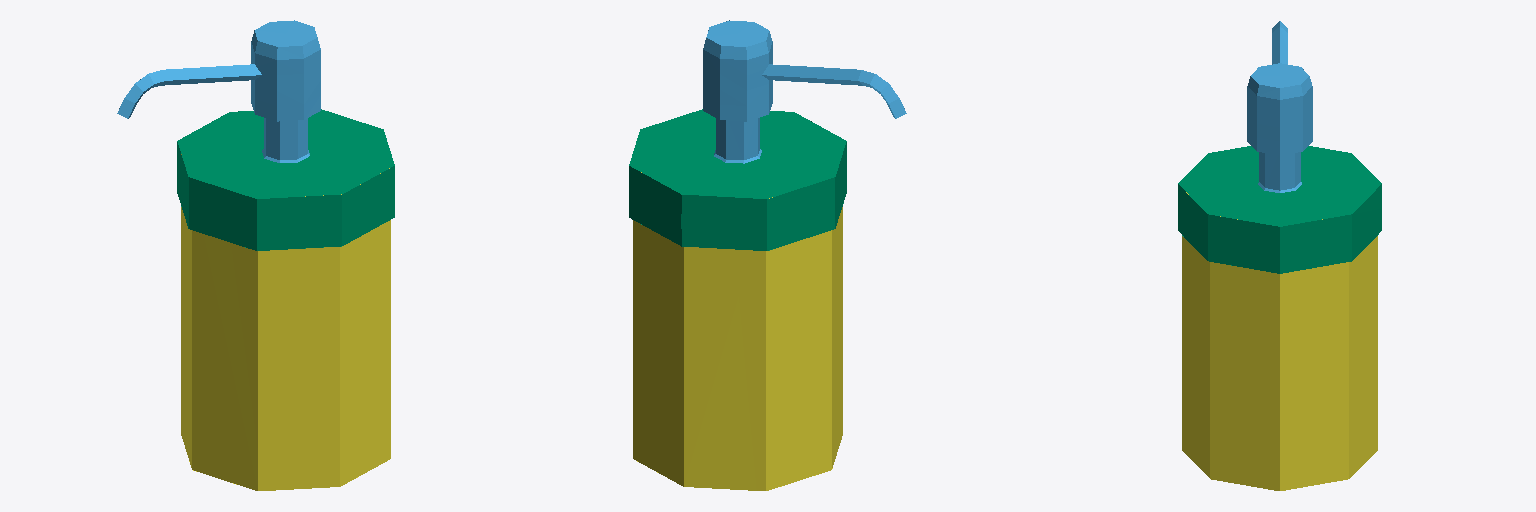
The robot description file, URDF, robot "partnet_5d80c1b5-bbcc-4066-9103-2460992ace27":
<?xml version="1.0" ?>
<robot name="partnet_5d80c1b5-bbcc-4066-9103-2460992ace27">
	<link name="base"/>
	<link name="link_0">
		<visual name="pressing_lid-1">
			<origin xyz="0.002186500000000001 0 0.009778999997167189"/>
			<geometry>
				<mesh filename="textured_objs/original_2.obj"/>
			</geometry>
		</visual>
		<visual name="pressing_lid-1">
			<origin xyz="0.002186500000000001 0 0.009778999997167189"/>
			<geometry>
				<mesh filename="textured_objs/original_8.obj"/>
			</geometry>
		</visual>
		<visual name="pressing_lid-1">
			<origin xyz="0.002186500000000001 0 0.009778999997167189"/>
			<geometry>
				<mesh filename="textured_objs/original_6.obj"/>
			</geometry>
		</visual>
		<collision>
			<origin xyz="0.002186500000000001 0 0.009778999997167189"/>
			<geometry>
				<mesh filename="textured_objs/original_2.obj"/>
			</geometry>
		</collision>
		<collision>
			<origin xyz="0.002186500000000001 0 0.009778999997167189"/>
			<geometry>
				<mesh filename="textured_objs/original_8.obj"/>
			</geometry>
		</collision>
		<collision>
			<origin xyz="0.002186500000000001 0 0.009778999997167189"/>
			<geometry>
				<mesh filename="textured_objs/original_6.obj"/>
			</geometry>
		</collision>
	</link>
	<joint name="joint_0" type="continuous">
		<origin xyz="0.0 0 0.0"/>
		<axis xyz="0 1 0"/>
		<child link="link_0"/>
		<parent link="link_0_helper"/>
	</joint>
	<link name="link_1">
		<visual name="head-3">
			<origin xyz="0.0016189564690488947 0 0.009924500000000003"/>
			<geometry>
				<mesh filename="textured_objs/original_7.obj"/>
			</geometry>
		</visual>
		<collision>
			<origin xyz="0.0016189564690488947 0 0.009924500000000003"/>
			<geometry>
				<mesh filename="textured_objs/original_7.obj"/>
			</geometry>
		</collision>
	</link>
	<joint name="joint_1" type="continuous">
		<origin xyz="0.0 0 0.0"/>
		<axis xyz="0 -1 0"/>
		<child link="link_1"/>
		<parent link="link_1_helper"/>
	</joint>
	<link name="link_2">
		<visual name="base_body-4">
			<origin xyz="0 0 0"/>
			<geometry>
				<mesh filename="textured_objs/original_4.obj"/>
			</geometry>
		</visual>
		<visual name="base_body-4">
			<origin xyz="0 0 0"/>
			<geometry>
				<mesh filename="textured_objs/original_3.obj"/>
			</geometry>
		</visual>
		<visual name="base_body-4">
			<origin xyz="0 0 0"/>
			<geometry>
				<mesh filename="textured_objs/original_9.obj"/>
			</geometry>
		</visual>
		<visual name="base_body-4">
			<origin xyz="0 0 0"/>
			<geometry>
				<mesh filename="textured_objs/original_5.obj"/>
			</geometry>
		</visual>
		<visual name="base_body-4">
			<origin xyz="0 0 0"/>
			<geometry>
				<mesh filename="textured_objs/original_1.obj"/>
			</geometry>
		</visual>
		<collision>
			<origin xyz="0 0 0"/>
			<geometry>
				<mesh filename="textured_objs/original_4.obj"/>
			</geometry>
		</collision>
		<collision>
			<origin xyz="0 0 0"/>
			<geometry>
				<mesh filename="textured_objs/original_3.obj"/>
			</geometry>
		</collision>
		<collision>
			<origin xyz="0 0 0"/>
			<geometry>
				<mesh filename="textured_objs/original_9.obj"/>
			</geometry>
		</collision>
		<collision>
			<origin xyz="0 0 0"/>
			<geometry>
				<mesh filename="textured_objs/original_5.obj"/>
			</geometry>
		</collision>
		<collision>
			<origin xyz="0 0 0"/>
			<geometry>
				<mesh filename="textured_objs/original_1.obj"/>
			</geometry>
		</collision>
	</link>
	<joint name="joint_2" type="fixed">
		<origin rpy="1.570796326794897 0 -1.570796326794897" xyz="0 0 0"/>
		<child link="link_2"/>
		<parent link="base"/>
	</joint>
	<link name="link_0_helper">
		<inertial>
			<origin xyz="0 0 0"/>
			<mass value="1e-6"/>
			<inertia ixx="1e-10" ixy="0" ixz="0" iyy="1e-10" iyz="0" izz="1e-10"/>
		</inertial>
	</link>
	<joint name="joint_3" type="prismatic">
		<origin xyz="-0.0005675435309511062 0 0.00014550000283281364"/>
		<axis xyz="0 -1 0"/>
		<child link="link_0_helper"/>
		<parent link="link_1"/>
		<limit lower="0" upper="0.17"/>
	</joint>
	<link name="link_1_helper">
		<inertial>
			<origin xyz="0 0 0"/>
			<mass value="1e-6"/>
			<inertia ixx="1e-10" ixy="0" ixz="0" iyy="1e-10" iyz="0" izz="1e-10"/>
		</inertial>
	</link>
	<joint name="joint_4" type="prismatic">
		<origin xyz="-0.0016189564690488947 0 -0.009924500000000003"/>
		<axis xyz="0 1 0"/>
		<child link="link_1_helper"/>
		<parent link="link_2"/>
		<limit lower="0" upper="0.19999999999999996"/>
	</joint>
</robot>

--- What the picture shows (computed from the rendered views, not written in the file) ---
The picture shows the robot from 3 angles, left to right: view 1: azimuth 30°, elevation 25°; view 2: azimuth 150°, elevation 25°; view 3: azimuth 270°, elevation 25°; orthographic projection.
Robot: partnet_5d80c1b5-bbcc-4066-9103-2460992ace27 — 6 links, 5 joints (2 continuous, 2 prismatic, 1 fixed); root link base; default pose: every joint at zero.
Links seen in each view (by area): view 1: link_2, link_1, link_0; view 2: link_2, link_1, link_0; view 3: link_2, link_1, link_0.
Link boxes in pixels (x1=…): link_2: x1=181, y1=154, x2=390, y2=490; link_1: x1=177, y1=109, x2=394, y2=250; link_0: x1=117, y1=20, x2=320, y2=162; link_2: x1=633, y1=172, x2=842, y2=490; link_1: x1=629, y1=109, x2=846, y2=250; link_0: x1=703, y1=20, x2=906, y2=163; link_2: x1=1182, y1=192, x2=1377, y2=490; link_1: x1=1178, y1=146, x2=1381, y2=273; link_0: x1=1247, y1=21, x2=1312, y2=192.
Bounding box of the posed robot: 1.07 × 0.781 × 1.58 m (x, y, z).
Meshes: 9 distinct files referenced, 9 mesh visuals loaded (9 OBJ).
